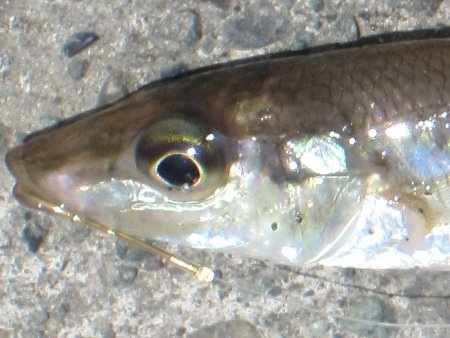kiss: (4, 35, 449, 287)
